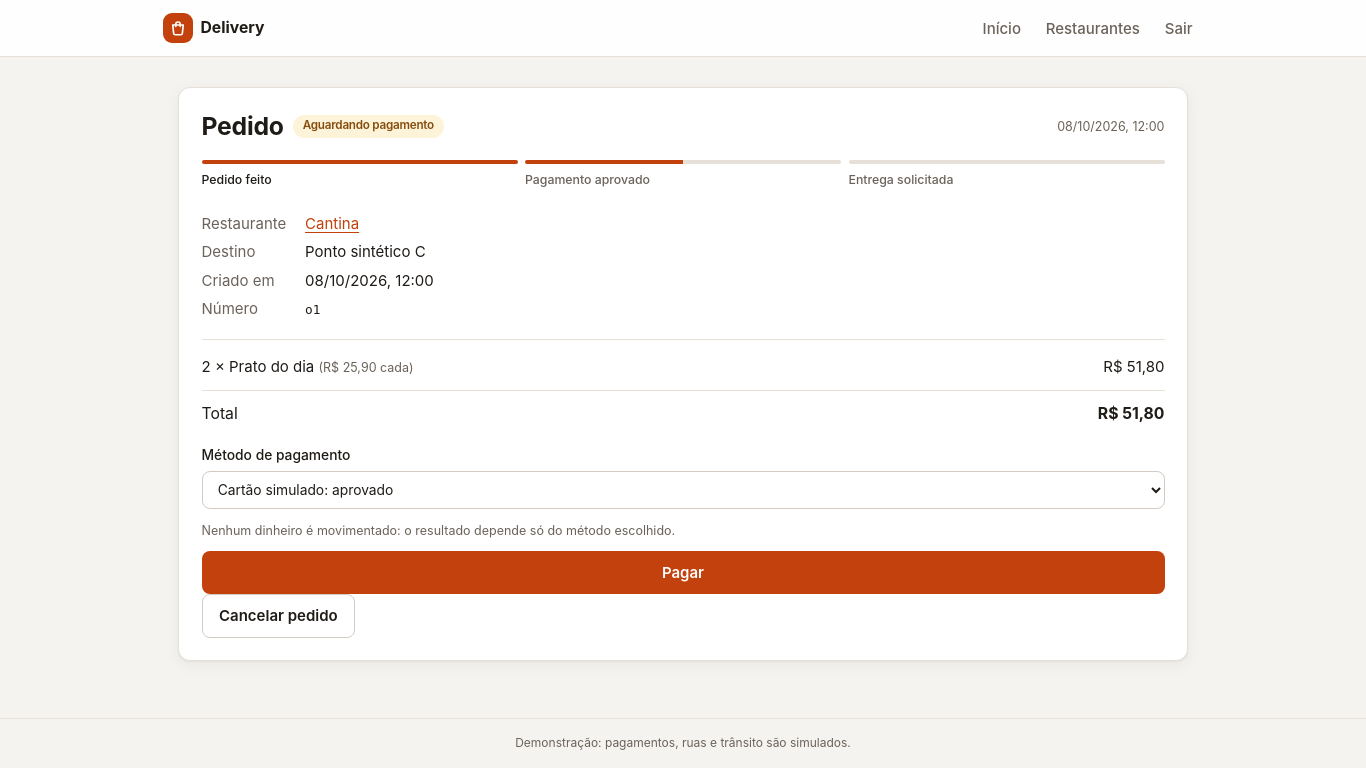
order payment › shows a conflict and forgets the key
The image size is (1366, 768).
Expected: the heading "Pedido Aguardando pagamento" is shown, x1=202 y1=111 x2=444 y2=142
Click the button "Pagar". click: (683, 573)
box: x1=202 y1=551 x2=1164 y2=594
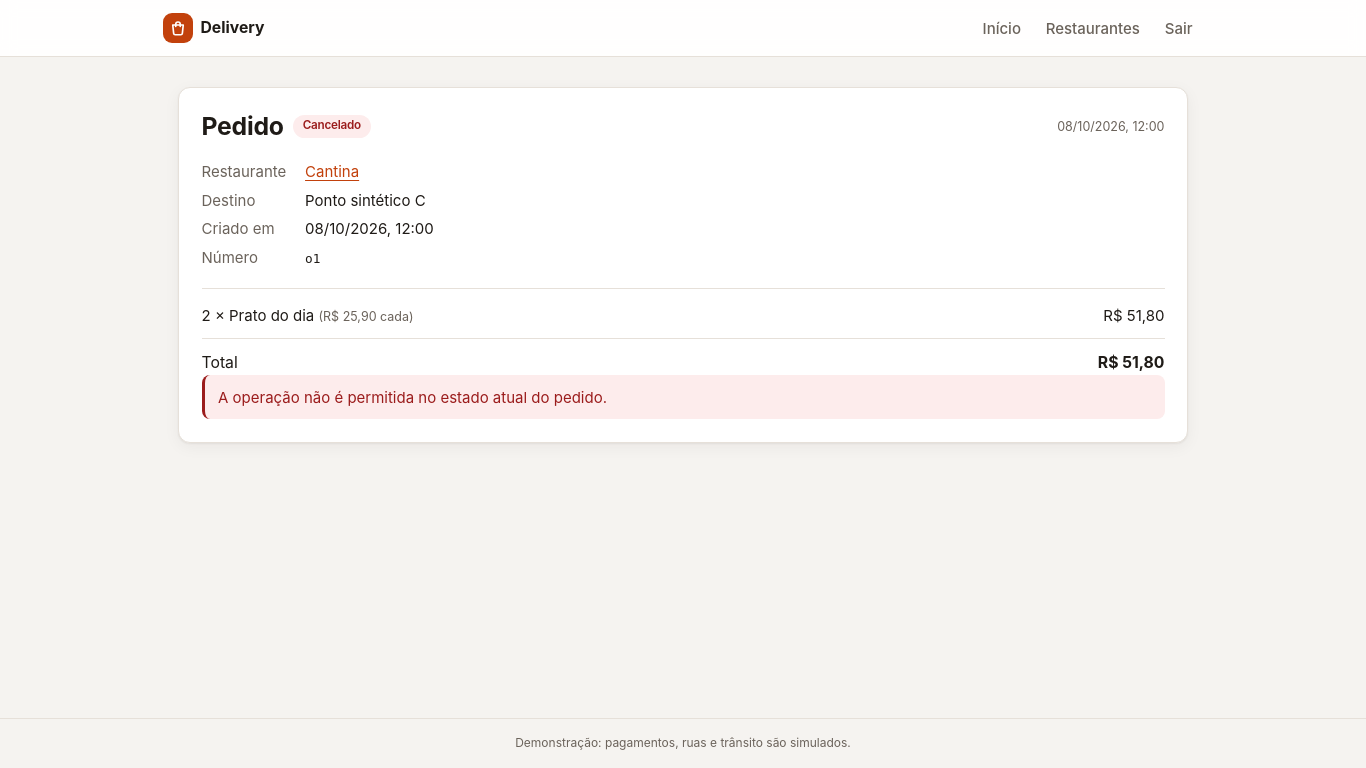
Now the message shows "não é permitida", box x1=218 y1=388 x2=607 y2=407
Now the text "Cancelado" is shown, box x1=293 y1=115 x2=371 y2=138
